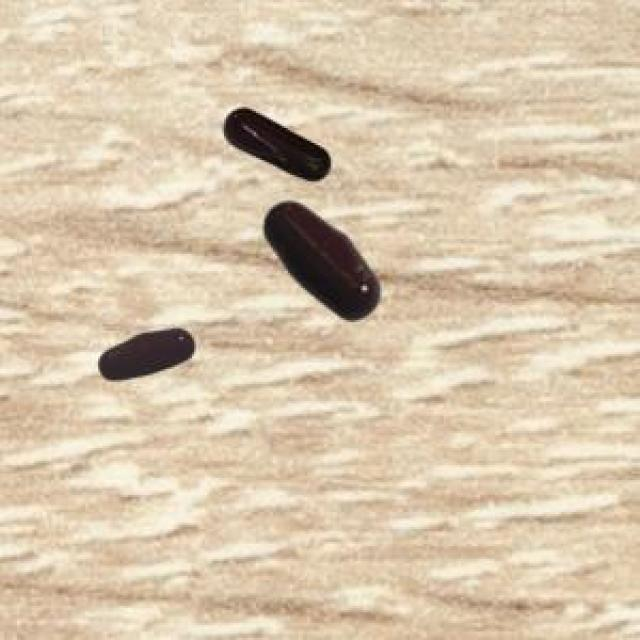DayZinc: (252, 192, 393, 332), (213, 98, 342, 187), (87, 320, 206, 392)
